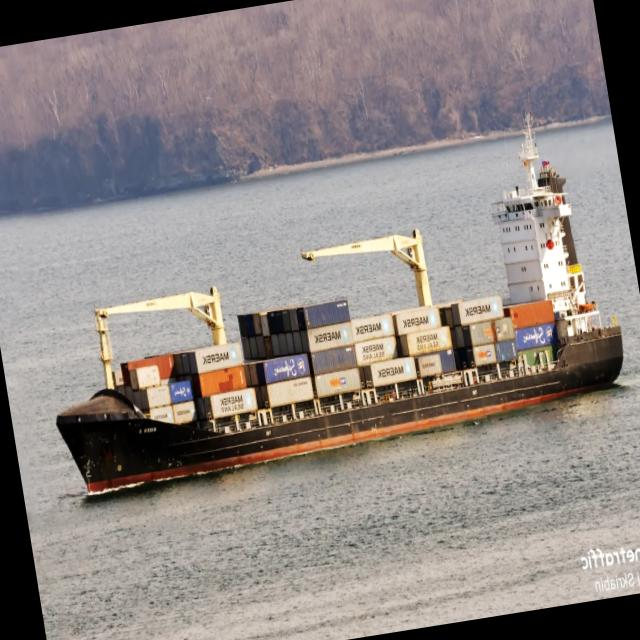Cargo: (56, 113, 623, 498)
